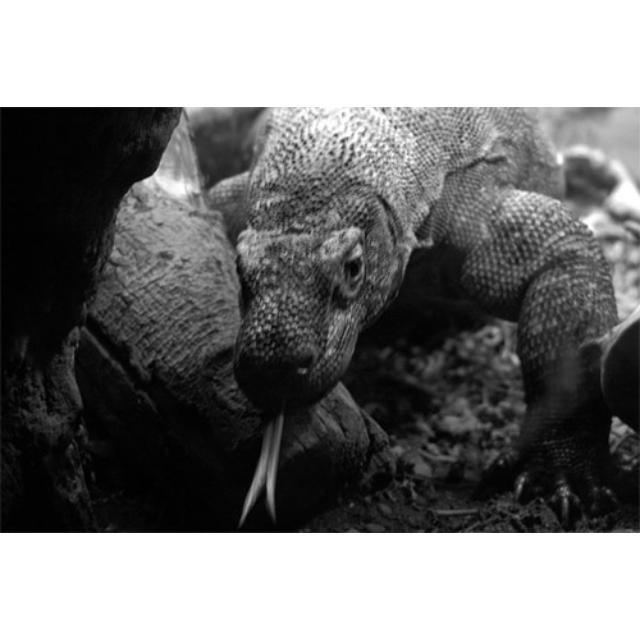KomodoDragon: (203, 108, 616, 530)
